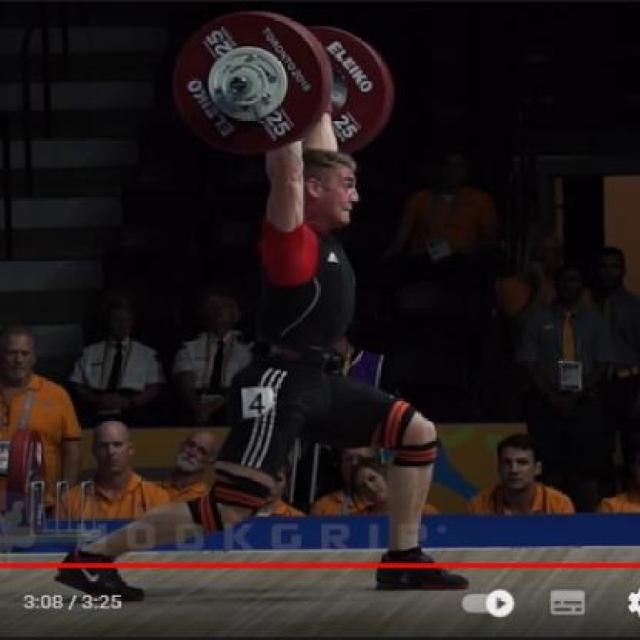barbell: (165, 6, 340, 167)
